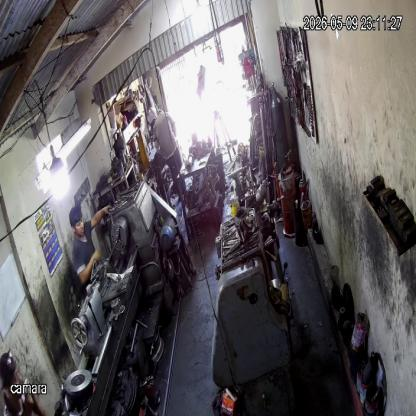sin_lentes: (73, 218, 86, 230)
